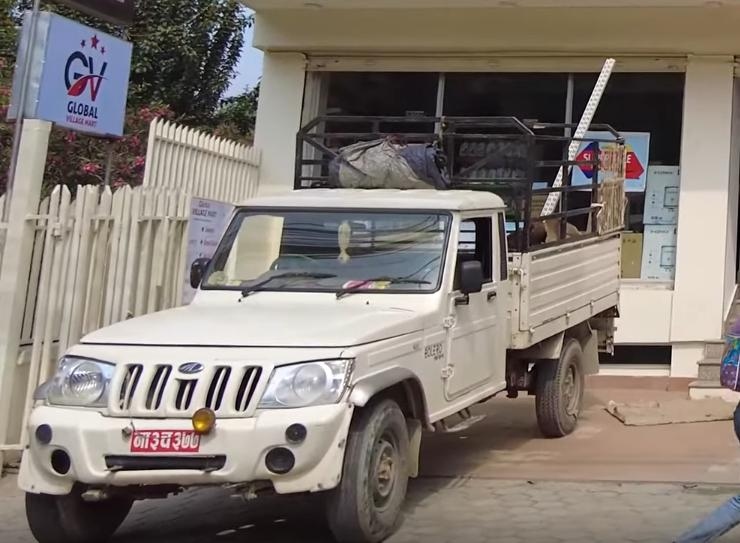transport_vehicle: (21, 102, 629, 543)
